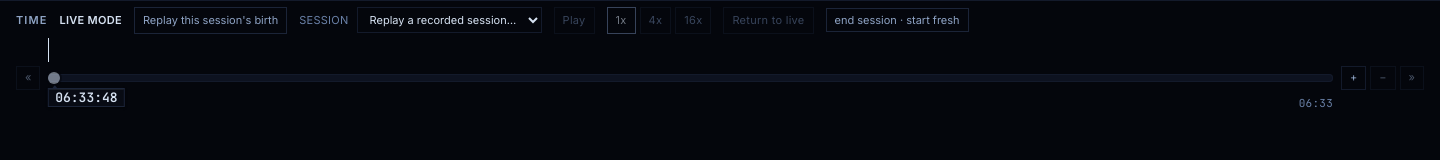
it: ReplayControls › replaying this session's birth picks the richest session and starts playing
What coordinates should you click on to do the following:
click the button "Replay this session's birth"
I would click on:
 (211, 20)
Its box is [134,7,287,34].
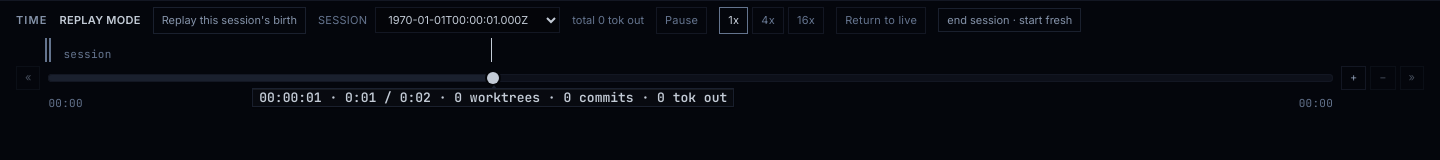
Result: the text "Replay mode" is shown at [60,12,141,28]
Result: the dropdown labelled "session" shows "1970-01-01T00:00:01.000Z" at [375,7,560,33]
Result: the button "Pause" is shown at [656,7,707,34]
